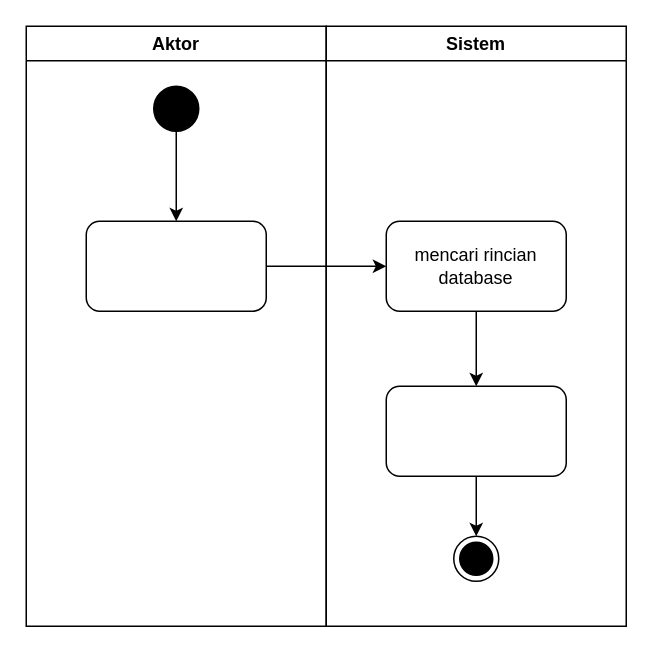
Image size: 653x653. Some labels were removed from this diagram. The shapes that lost their labels are listed below. From the top down, each one's centre as x and y in pixels, then its label:
[175,265]: pilih data yang ingin dilihat
[475,430]: menampilkan data
